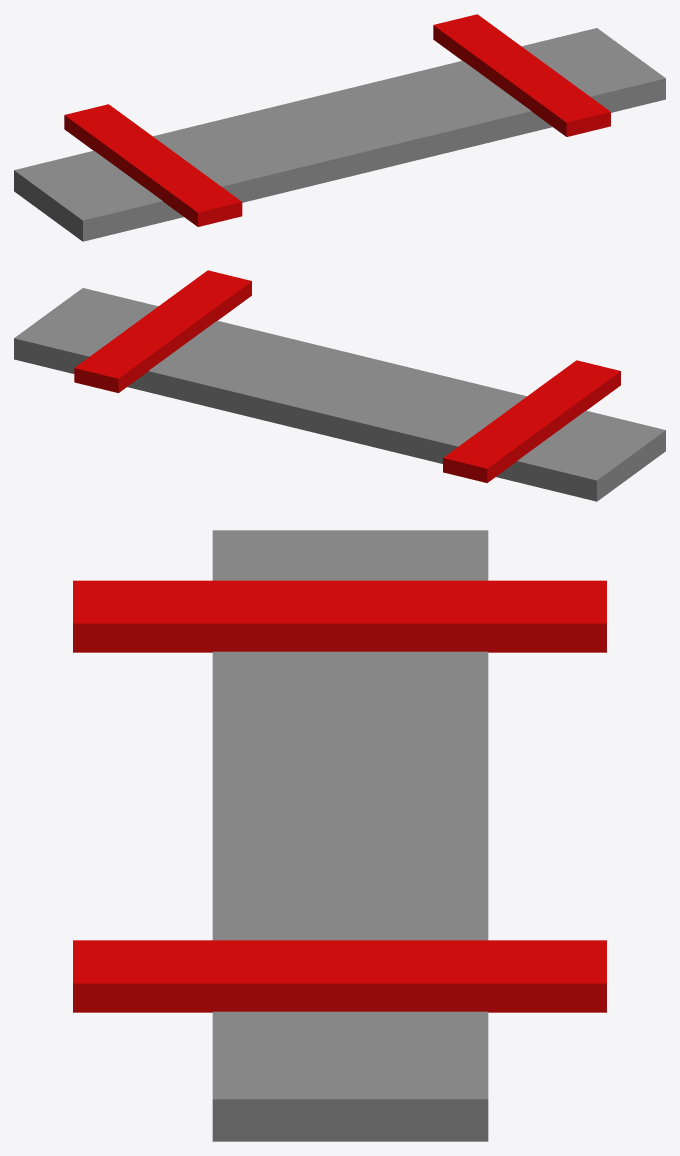
File: thanh_ray_don.fbx
3 renders of one model, top to bottom at view 1: azimuth 30°, elevation 25°; view 2: azimuth 150°, elevation 25°; view 3: azimuth 270°, elevation 25°, orthographic. The views are drawn at different scales.
Visible parts, largest first — view 1: pCube6; view 2: pCube6; view 3: pCube6.
Boxes of the visible parts, x1,y1,x2,y2 form: pCube6: [14, 14, 665, 241]; pCube6: [14, 270, 665, 501]; pCube6: [73, 530, 606, 1141].
Size of the model in its own units: 65.56 by 3.77 by 26.
